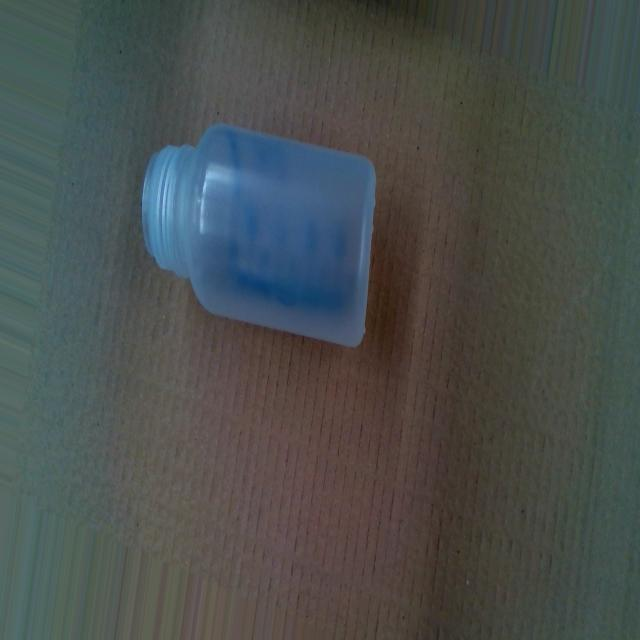bottle: (140, 118, 378, 353)
